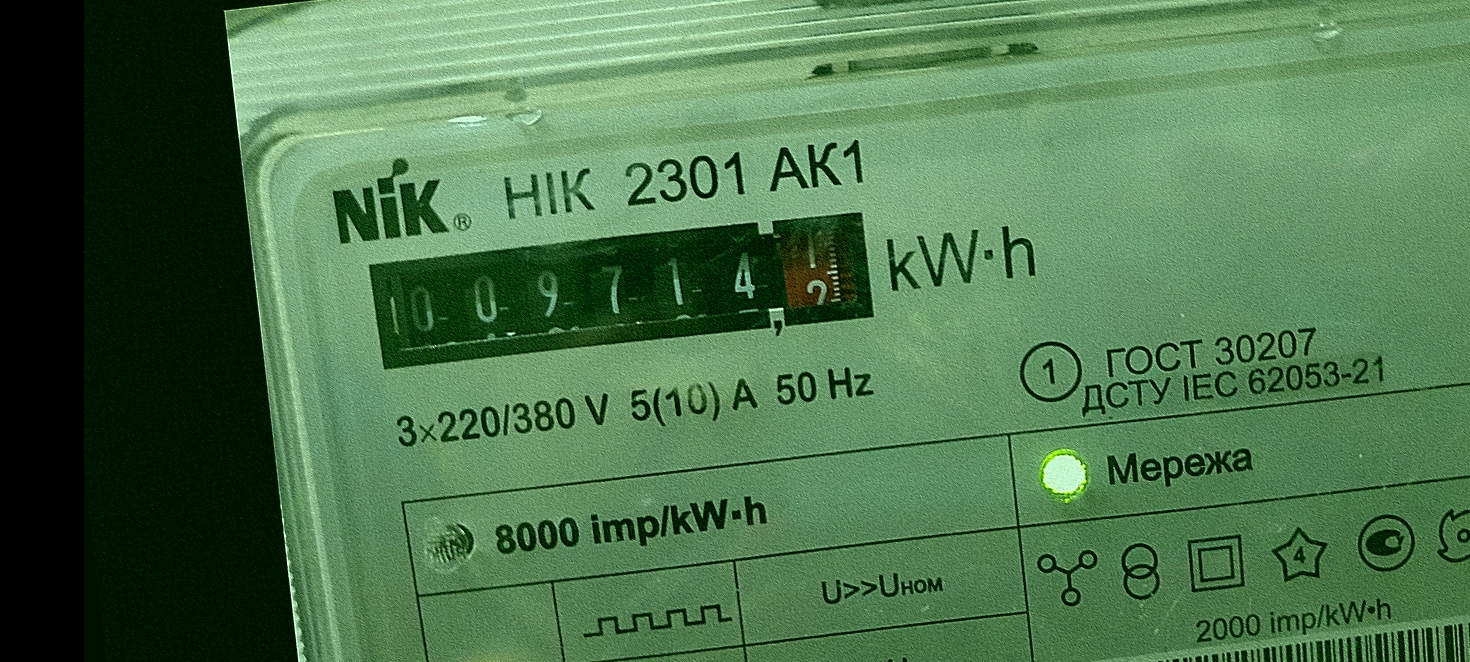0: (406, 282, 441, 339), (470, 272, 502, 328)
1: (663, 253, 692, 311), (802, 230, 821, 273)
2: (805, 277, 832, 309)
4: (728, 249, 762, 306)
7: (599, 263, 631, 319)
9: (532, 267, 566, 323)
screen: (354, 193, 894, 395)
